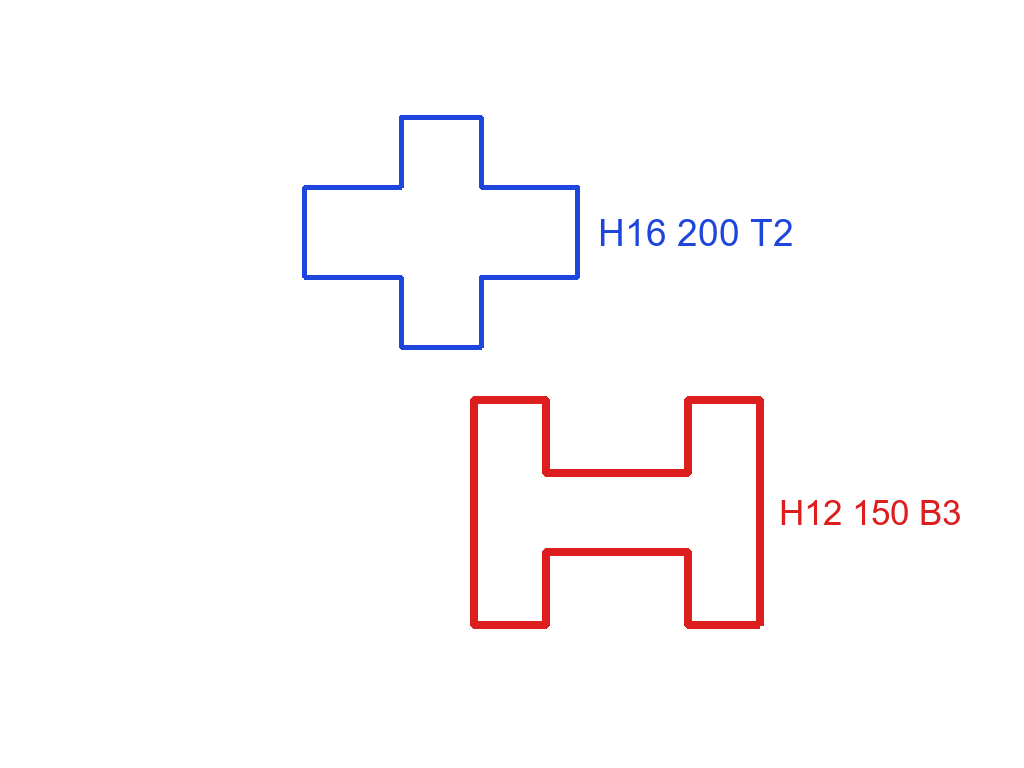shape: (469, 393, 765, 632), (300, 113, 582, 352)
text: (596, 217, 796, 248), (777, 498, 963, 527)
